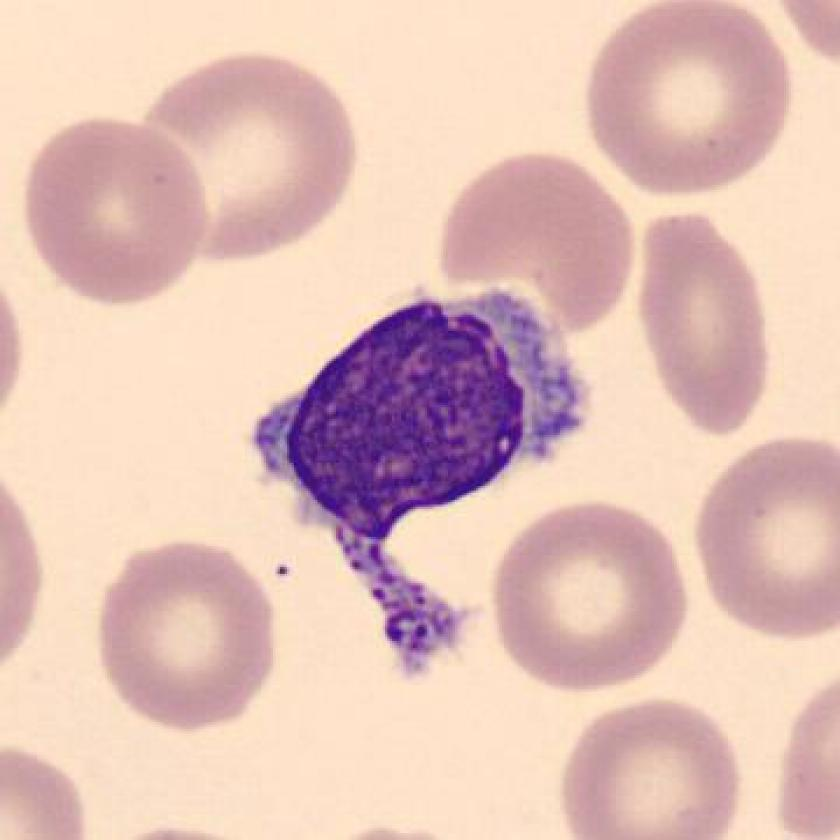lymphocyte: (234, 276, 610, 693)
